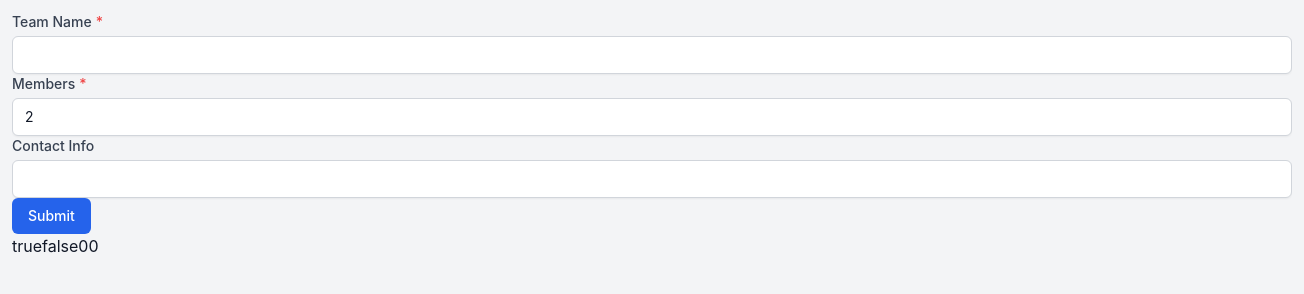
Scenario: Form Validation › Basic Validation › should validate pattern matching
The width and height of the screenshot is (1304, 294).
// Test invalid characters
In the field with test id "name-input": {"x": 652, "y": 55} 12,36 -> 1292,74, type "Team@#$%"
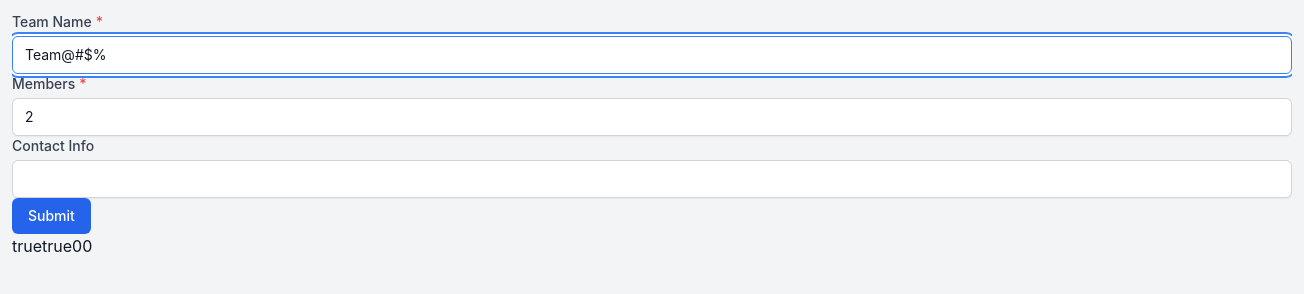
Leave the field with test id "name-input", box 12,36 -> 1292,74
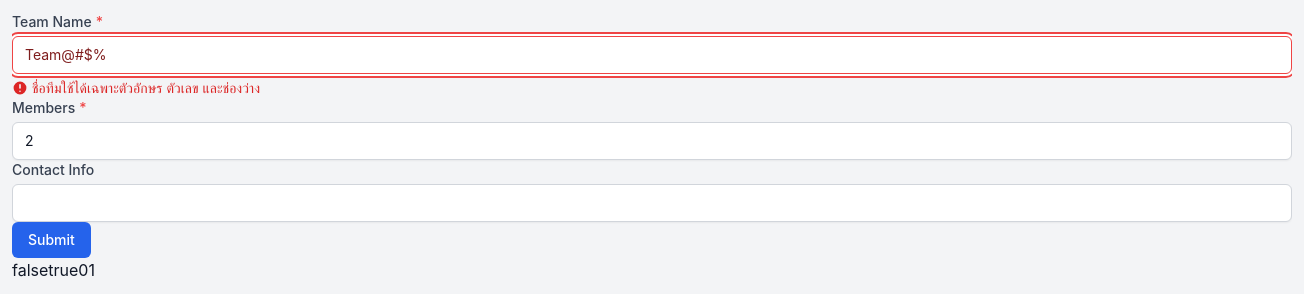
Now the text "ชื่อทีมใช้ได้เฉพาะตัวอักษร ตัวเลข และช่องว่าง" is shown, box 12,79 -> 260,96
